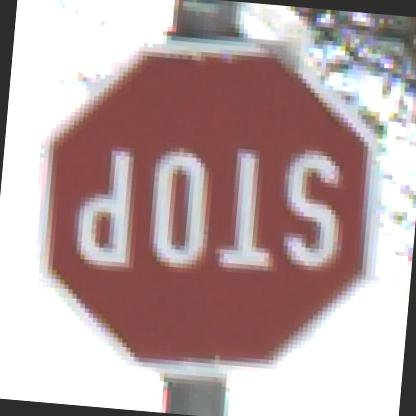stop: (21, 20, 388, 372)
